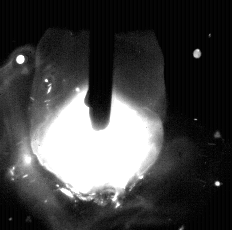arame: (89, 0, 114, 130)
poca: (30, 0, 164, 230)
